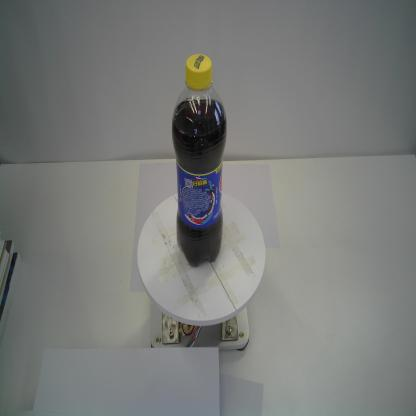Drink: (171, 52, 228, 267)
